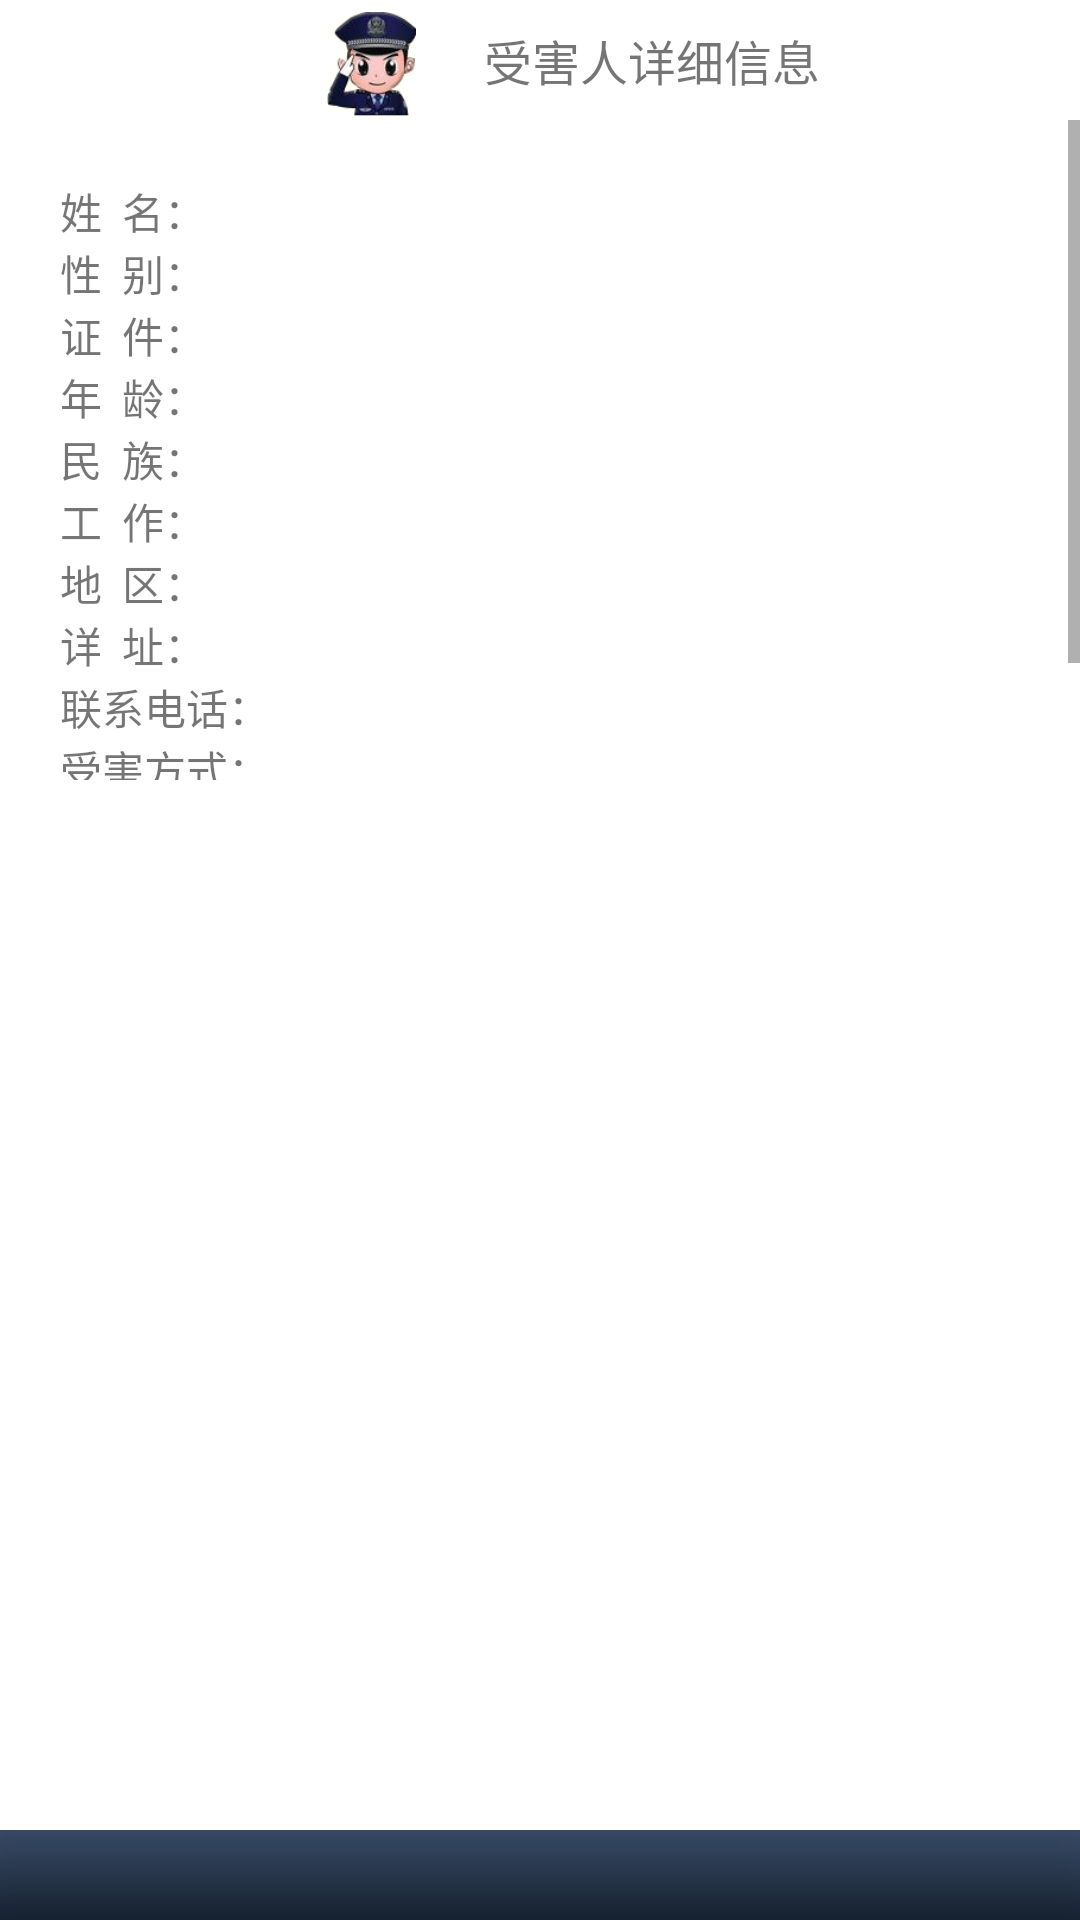

Screen size 1080*1920. Icon name, then its box in pixels as (x1, y1, x2, y2):
police: (327, 12, 416, 116)
